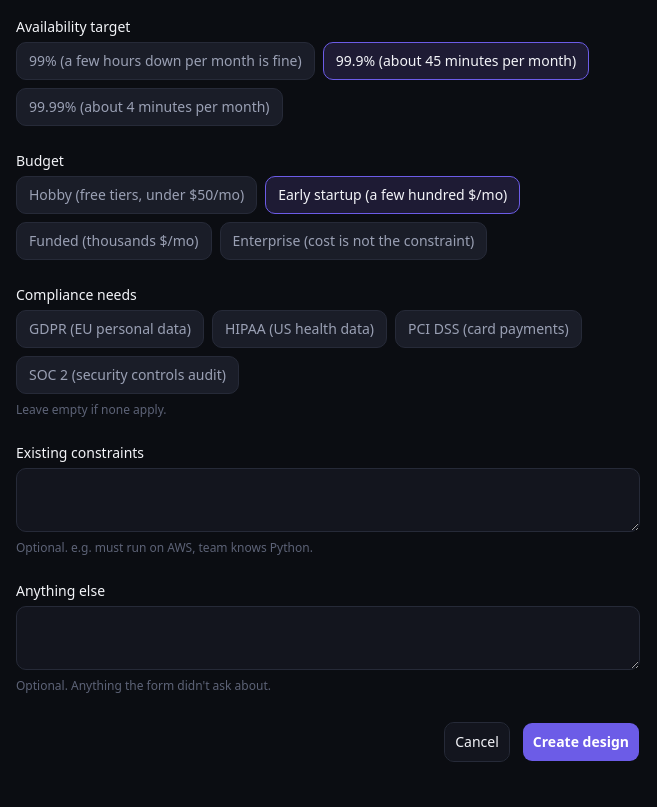
Test: requirement intake form › refuses to submit without at least one feature
(page scrolled)
Click the button "Create design". click: {"x": 581, "y": 742}
box: [522,722,640,762]
(page scrolled)
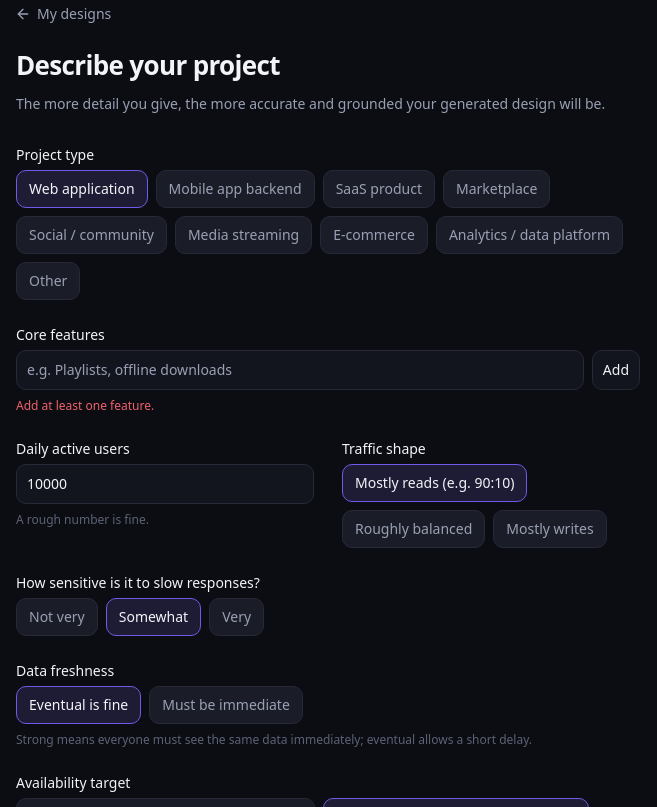
Expected: the text "Add at least one feature." is shown, [16,397,154,414]
